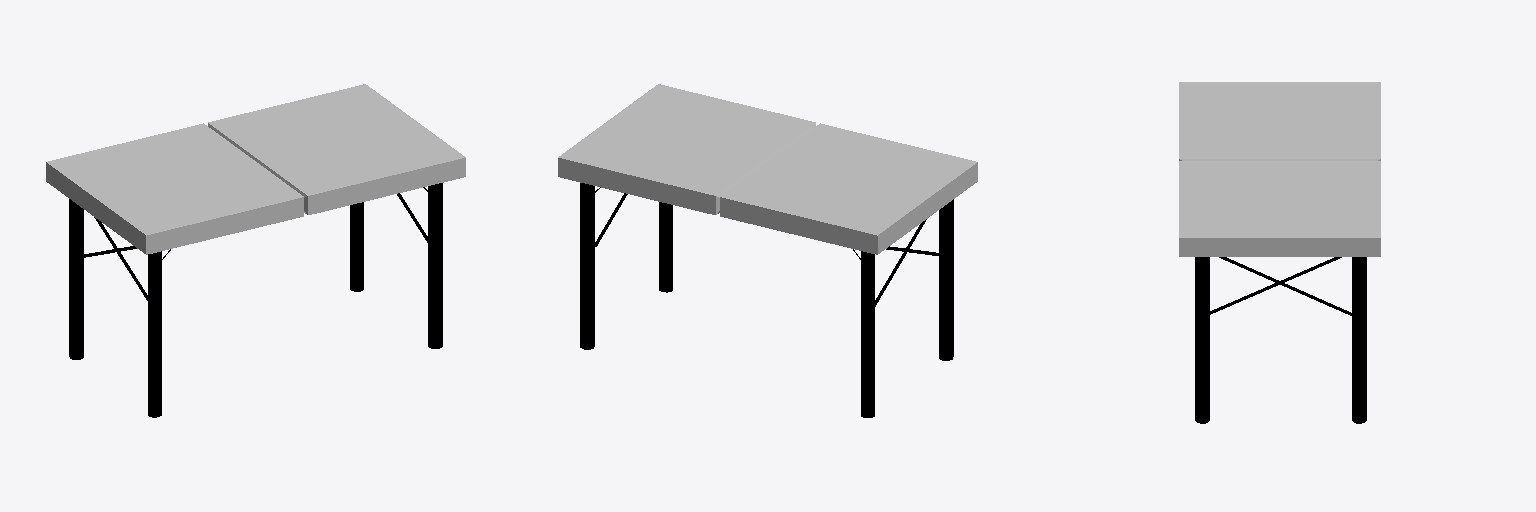
Rendered from Table.obj.
The picture shows the model from 3 angles: view 1: azimuth 30°, elevation 25°; view 2: azimuth 150°, elevation 25°; view 3: azimuth 270°, elevation 25°; orthographic projection.
Parts seen in each view (by area): view 1: pCube1, pCylinder1 group1, group1 pCylinder4, group1 pCylinder3, group1 pCylinder2; view 2: pCube1, group1 pCylinder2, group1 pCylinder3, group1 pCylinder4, pCylinder1 group1; view 3: pCube1, pCylinder1 group1, group1 pCylinder2.
Part boxes in pixels (x1,y1,x2,y2): pCube1: (46,84,465,254); pCylinder1 group1: (428,183,442,348); group1 pCylinder4: (69,199,83,359); group1 pCylinder3: (148,251,161,417); group1 pCylinder2: (350,202,363,291); pCube1: (558,84,977,254); group1 pCylinder2: (580,183,594,349); group1 pCylinder3: (939,199,953,360); group1 pCylinder4: (861,251,874,417); pCylinder1 group1: (659,202,672,292); pCube1: (1179,82,1380,256); pCylinder1 group1: (1195,257,1209,423); group1 pCylinder2: (1352,257,1366,423).
Bounding box in the file's own units: 16.04 × 9.23 × 8.73.